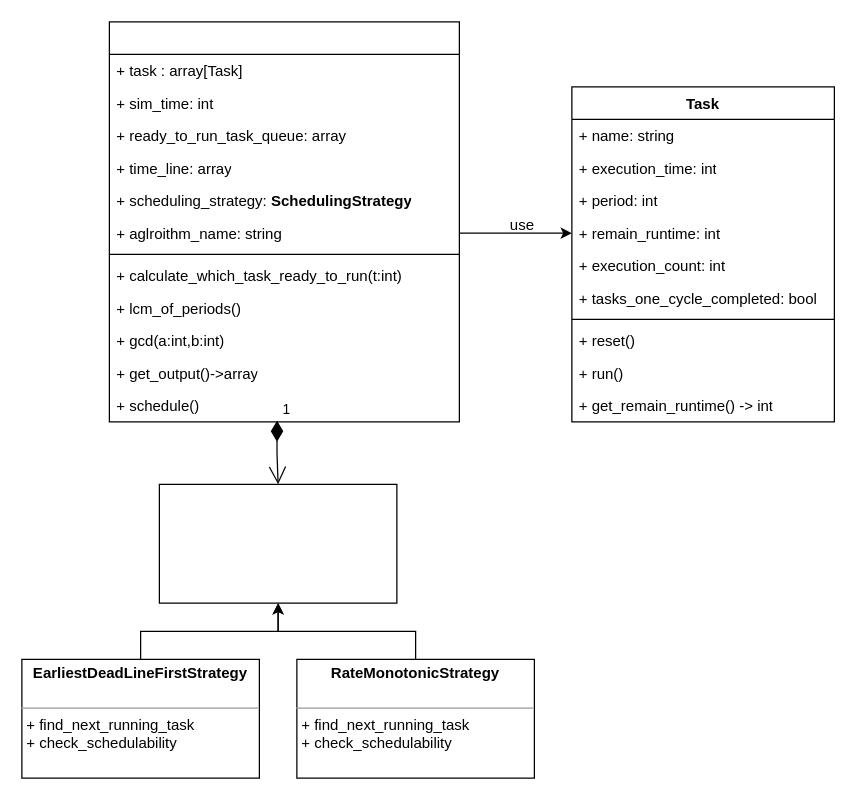
This 856x800 diagram has some shape labels left out. The box of each missing label's shape, as (x1, y1, x2, y2) in pixels:
<<abstract>> SchedulingStrategy + find_next_running_task + check_schedulability: (158, 483, 397, 603)
Scheduler: (108, 21, 459, 422)
